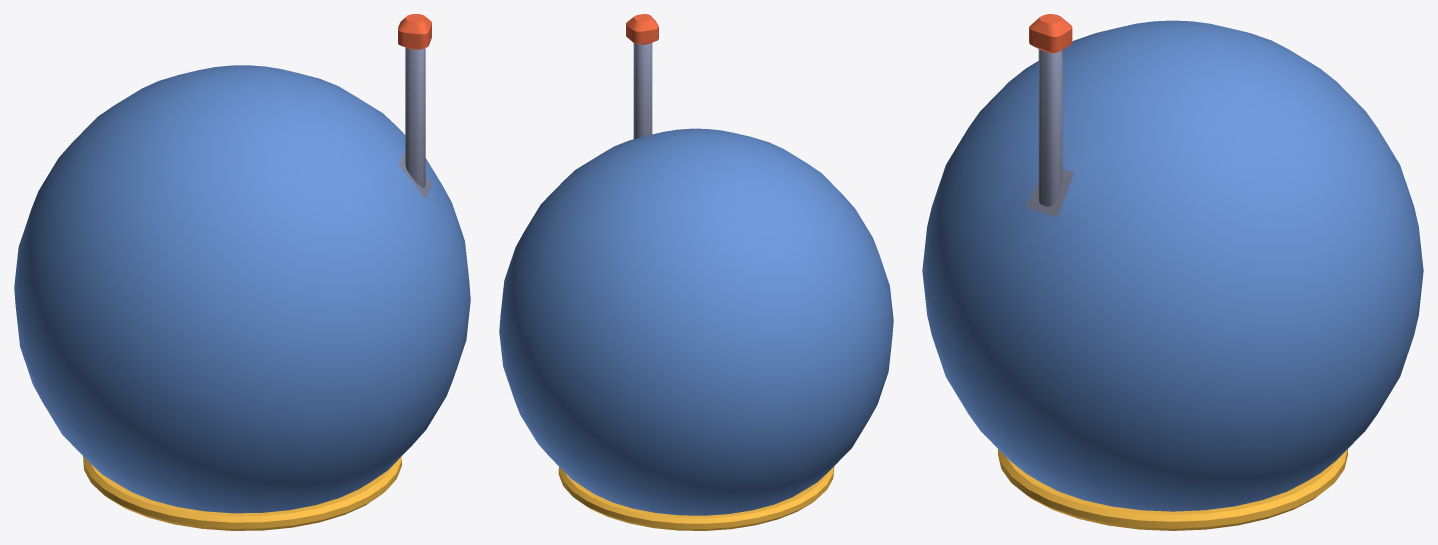
File: Attach_Hat_Spacehelmet.fbx
3 renders of one model, left to right at view 1: azimuth 30°, elevation 25°; view 2: azimuth 150°, elevation 25°; view 3: azimuth 270°, elevation 25°, orthographic. The views are drawn at different scales.
Parts seen in each view (by area): view 1: Attach_Hat_Spacehelmet; view 2: Attach_Hat_Spacehelmet; view 3: Attach_Hat_Spacehelmet.
Boxes of the visible parts, box(x1,y1,x2,y2) form: Attach_Hat_Spacehelmet: box(14, 14, 470, 530); Attach_Hat_Spacehelmet: box(499, 14, 893, 530); Attach_Hat_Spacehelmet: box(922, 14, 1423, 530).
Bounding box in the file's own units: 1.6 × 1.6 × 1.9.
